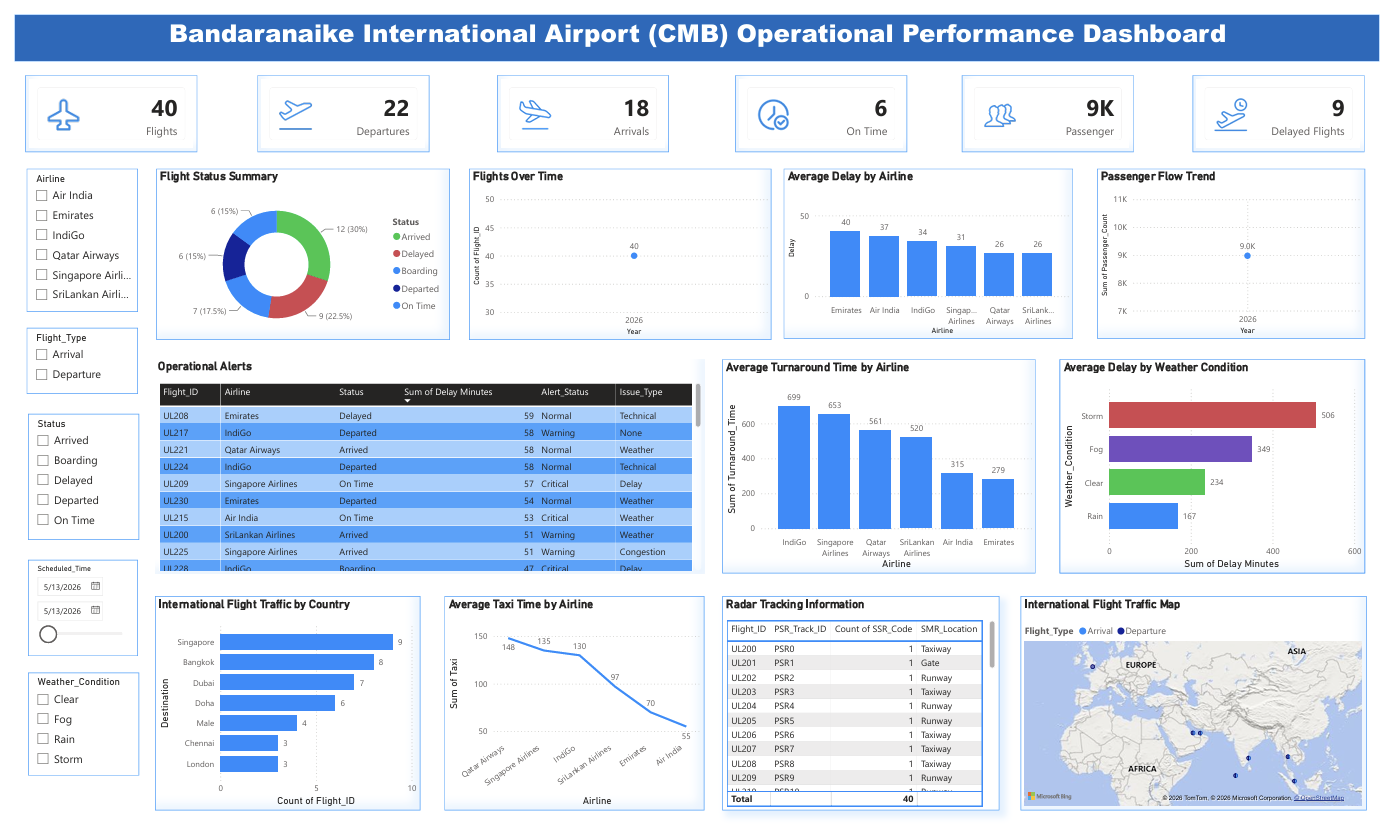

Layout of this report page (visuals, bound fields, positions):
{"tool":"powerbi","page":{"name":"Page 1","canvas":[2000,1200],"ordinal":0},"visuals":[{"type":"cardVisual","fields":{"Data":["BIA_CMB_Dataset.Total_Flights"]},"box":[16.2,88.7,252.2,113.1],"z":0},{"type":"textbox","title":"Bandaranaike International Airport (CMB) Operational Performance Dashboard","box":[0,0,2000.4,69],"z":1000},{"type":"cardVisual","fields":{"Data":["BIA_CMB_Dataset.Arrivals"]},"box":[706.8,89,252.2,113.1],"z":2000},{"type":"cardVisual","fields":{"Data":["BIA_CMB_Dataset.Departures"]},"box":[356.1,89,252.2,113.1],"z":3000},{"type":"cardVisual","fields":{"Data":["BIA_CMB_Dataset.Total Passengers"]},"box":[1388.1,89,252.2,113.1],"z":4000},{"type":"cardVisual","fields":{"Data":["BIA_CMB_Dataset.Delayed Flights"]},"box":[1726,89,252.2,113.1],"z":5000},{"type":"cardVisual","fields":{"Data":["BIA_CMB_Dataset.On Time"]},"box":[1055.6,89,252.2,113.1],"z":6000},{"type":"donutChart","title":"Flight Status Summary","fields":{"Category":["BIA_CMB_Dataset.Status"],"Y":["CountNonNull(BIA_CMB_Dataset.Flight_ID)"]},"box":[207.9,226.2,430,250.7],"z":7000},{"type":"lineChart","title":"Flights Over Time","fields":{"Category":["BIA_CMB_Dataset.Scheduled_Time.Variation.Date Hierarchy.Year","BIA_CMB_Dataset.Scheduled_Time.Variation.Date Hierarchy.Quarter","BIA_CMB_Dataset.Scheduled_Time.Variation.Date Hierarchy.Month","BIA_CMB_Dataset.Scheduled_Time.Variation.Date Hierarchy.Day"],"Y":["CountNonNull(BIA_CMB_Dataset.Flight_ID)"]},"box":[666.4,226.2,442.3,250.7],"z":8000},{"type":"clusteredColumnChart","title":"Average Delay by Airline","fields":{"Category":["BIA_CMB_Dataset.Airline"],"Y":["BIA_CMB_Dataset.Delay"]},"box":[1127,226.2,423.9,248.6],"z":9000},{"type":"lineChart","title":"Passenger Flow Trend","fields":{"Category":["BIA_CMB_Dataset.Scheduled_Time.Variation.Date Hierarchy.Year","BIA_CMB_Dataset.Scheduled_Time.Variation.Date Hierarchy.Quarter","BIA_CMB_Dataset.Scheduled_Time.Variation.Date Hierarchy.Month","BIA_CMB_Dataset.Scheduled_Time.Variation.Date Hierarchy.Day"],"Y":["Sum(BIA_CMB_Dataset.Passenger_Count)"]},"box":[1585.6,226.2,393.3,248.6],"z":10000},{"type":"clusteredBarChart","title":"International Flight Traffic by Country","fields":{"Category":["BIA_CMB_Dataset.Destination"],"Y":["CountNonNull(BIA_CMB_Dataset.Flight_ID)"]},"box":[205.8,851.9,389.3,313.9],"z":11000},{"type":"tableEx","title":"Operational Alerts","fields":{"Values":["BIA_CMB_Dataset.Flight_ID","BIA_CMB_Dataset.Airline","BIA_CMB_Dataset.Status","Sum(BIA_CMB_Dataset.Delay_Minutes)","BIA_CMB_Dataset.Alert_Status","BIA_CMB_Dataset.Issue_Type"]},"box":[205.8,505.4,805,313.9],"z":12000},{"type":"slicer","fields":{"Values":["BIA_CMB_Dataset.Airline"]},"box":[18.3,226.2,163,209.9],"z":13000},{"type":"slicer","fields":{"Values":["BIA_CMB_Dataset.Flight_Type"]},"box":[18.3,458.6,163,97.8],"z":14000},{"type":"slicer","fields":{"Values":["BIA_CMB_Dataset.Status"]},"box":[20.4,584.9,163,185.5],"z":15000},{"type":"slicer","fields":{"Values":["BIA_CMB_Dataset.Scheduled_Time"]},"box":[20.4,798.9,161,140.6],"z":16000},{"type":"slicer","fields":{"Values":["BIA_CMB_Dataset.Weather_Condition"]},"box":[20.4,964,163,150.8],"z":17000},{"type":"clusteredBarChart","title":"Average Delay by Weather Condition","fields":{"Category":["BIA_CMB_Dataset.Weather_Condition"],"Y":["Sum(BIA_CMB_Dataset.Delay Minutes)"]},"box":[1530.6,505.4,448.4,313.9],"z":18000},{"type":"lineChart","title":"Average Taxi Time by Airline","fields":{"Category":["BIA_CMB_Dataset.Airline"],"Y":["Sum(BIA_CMB_Dataset.Taxi)"]},"box":[629.8,851.9,381.1,313.9],"z":19000},{"type":"clusteredColumnChart","title":"Average Turnaround Time by Airline","fields":{"Category":["BIA_CMB_Dataset.Airline"],"Y":["Sum(BIA_CMB_Dataset.Turnaround_Time)"]},"box":[1037.4,505.4,458.6,313.9],"z":20000},{"type":"map","title":"International Flight Traffic Map","fields":{"Category":["BIA_CMB_Dataset.Destination"],"Y":["BIA_CMB_Dataset.Passenger"],"Series":["BIA_CMB_Dataset.Flight_Type"]},"box":[1473.5,851.9,507.5,313.9],"z":21000},{"type":"tableEx","title":"Radar Tracking Information","fields":{"Values":["BIA_CMB_Dataset.Flight_ID","BIA_CMB_Dataset.PSR_Track_ID","CountNonNull(BIA_CMB_Dataset.SSR_Code)","BIA_CMB_Dataset.SMR_Location"]},"box":[1037.4,851.9,405.6,313.9],"z":22000}]}

Visuals, with their boxes in screenshot pixels (x1, y1, x2, y2), scaled from the page's 2000x1200 canvas onto the 1392x837 screenshot:
cardVisual - BIA_CMB_Dataset.Total_Flights: bbox=(11, 62, 187, 141)
"Bandaranaike International Airport (CMB) Operational Performance Dashboard" textbox: bbox=(0, 0, 1391, 48)
cardVisual - BIA_CMB_Dataset.Arrivals: bbox=(492, 62, 667, 141)
cardVisual - BIA_CMB_Dataset.Departures: bbox=(248, 62, 423, 141)
cardVisual - BIA_CMB_Dataset.Total Passengers: bbox=(966, 62, 1142, 141)
cardVisual - BIA_CMB_Dataset.Delayed Flights: bbox=(1201, 62, 1377, 141)
cardVisual - BIA_CMB_Dataset.On Time: bbox=(735, 62, 910, 141)
"Flight Status Summary" donutChart: bbox=(145, 158, 444, 333)
"Flights Over Time" lineChart: bbox=(464, 158, 772, 333)
"Average Delay by Airline" clusteredColumnChart: bbox=(784, 158, 1079, 331)
"Passenger Flow Trend" lineChart: bbox=(1104, 158, 1377, 331)
"International Flight Traffic by Country" clusteredBarChart: bbox=(143, 594, 414, 813)
"Operational Alerts" tableEx: bbox=(143, 353, 704, 571)
slicer - BIA_CMB_Dataset.Airline: bbox=(13, 158, 126, 304)
slicer - BIA_CMB_Dataset.Flight_Type: bbox=(13, 320, 126, 388)
slicer - BIA_CMB_Dataset.Status: bbox=(14, 408, 128, 537)
slicer - BIA_CMB_Dataset.Scheduled_Time: bbox=(14, 557, 126, 655)
slicer - BIA_CMB_Dataset.Weather_Condition: bbox=(14, 672, 128, 778)
"Average Delay by Weather Condition" clusteredBarChart: bbox=(1065, 353, 1377, 571)
"Average Taxi Time by Airline" lineChart: bbox=(438, 594, 704, 813)
"Average Turnaround Time by Airline" clusteredColumnChart: bbox=(722, 353, 1041, 571)
"International Flight Traffic Map" map: bbox=(1026, 594, 1379, 813)
"Radar Tracking Information" tableEx: bbox=(722, 594, 1004, 813)
